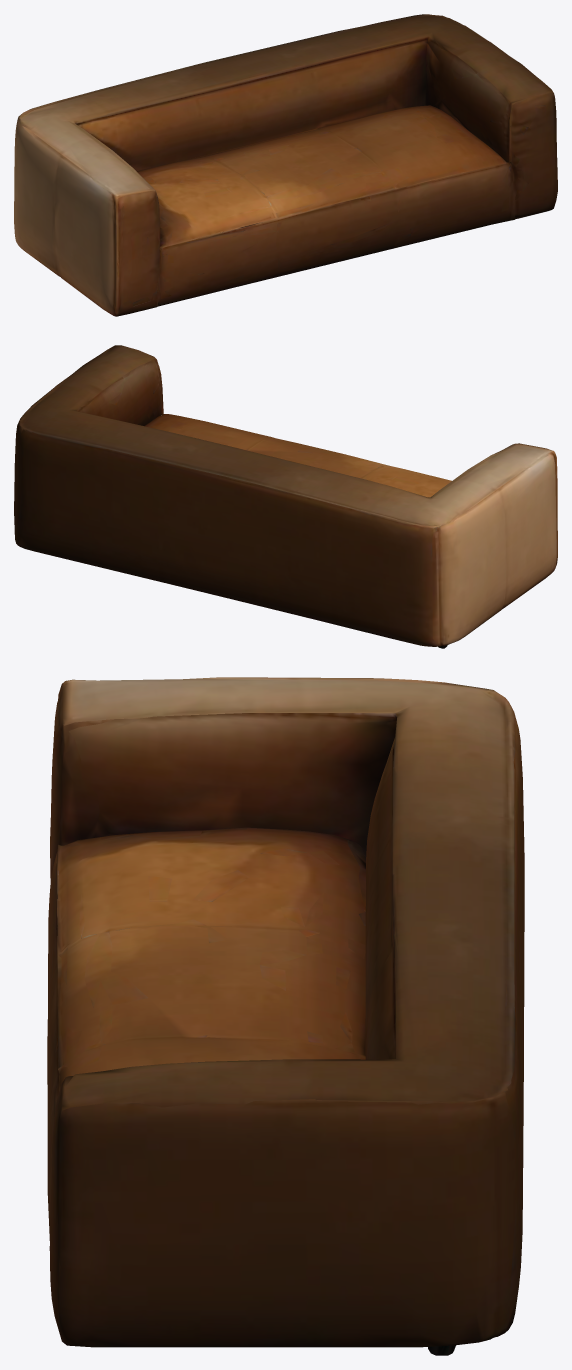
The picture shows the model from 3 angles, top to bottom: view 1: azimuth 30°, elevation 25°; view 2: azimuth 150°, elevation 25°; view 3: azimuth 270°, elevation 25°; orthographic projection. The views are drawn at different scales.
Parts seen in each view (by area): view 1: geometry_0; view 2: geometry_0; view 3: geometry_0.
Boxes of the visible parts, x1,y1,x2,y2 form: geometry_0: [14, 14, 557, 316]; geometry_0: [14, 345, 557, 648]; geometry_0: [47, 677, 524, 1355].
Size of the model in its own units: 0.999 by 0.2927 by 0.4557.
Materials: 1 (1 with a texture image).
